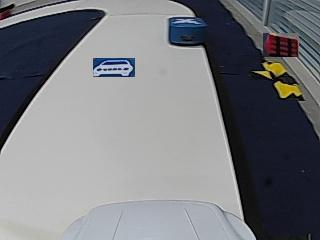prop: (169, 17, 208, 47)
